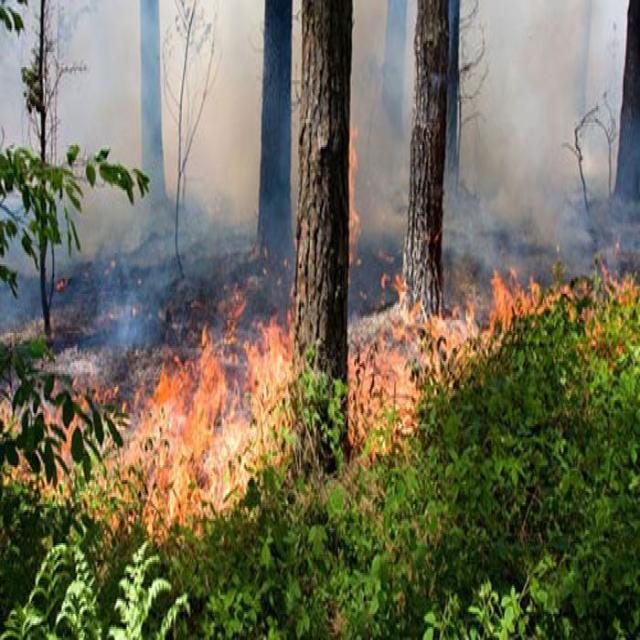fire: (152, 364, 294, 493)
smoke: (74, 17, 258, 251), (466, 12, 599, 221)
